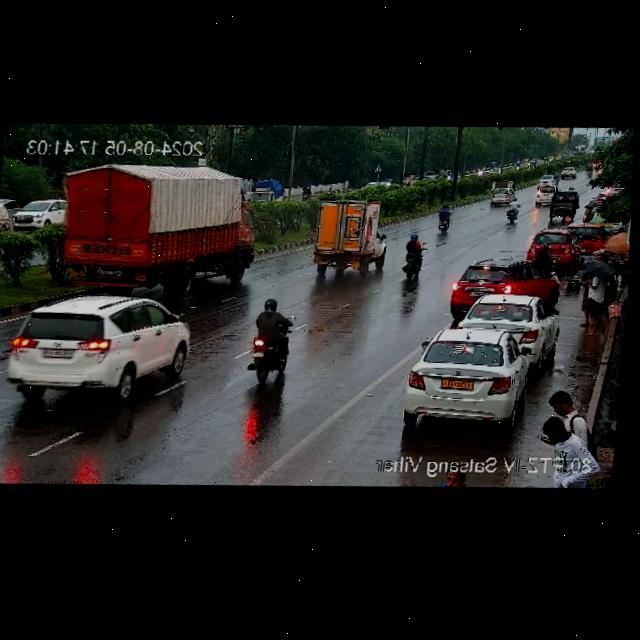car: (5, 289, 199, 412), (403, 323, 536, 431), (443, 253, 566, 321), (456, 292, 557, 363), (524, 229, 582, 266), (566, 221, 606, 253), (484, 177, 519, 205), (548, 189, 581, 212), (0, 195, 14, 233), (534, 185, 555, 204), (556, 165, 578, 180), (538, 173, 560, 186)
motorcycle: (242, 295, 292, 386), (398, 231, 432, 280), (435, 205, 456, 236), (502, 198, 523, 226)
person: (542, 391, 588, 446), (584, 256, 611, 331)
truck: (49, 148, 262, 284), (302, 191, 390, 282)
